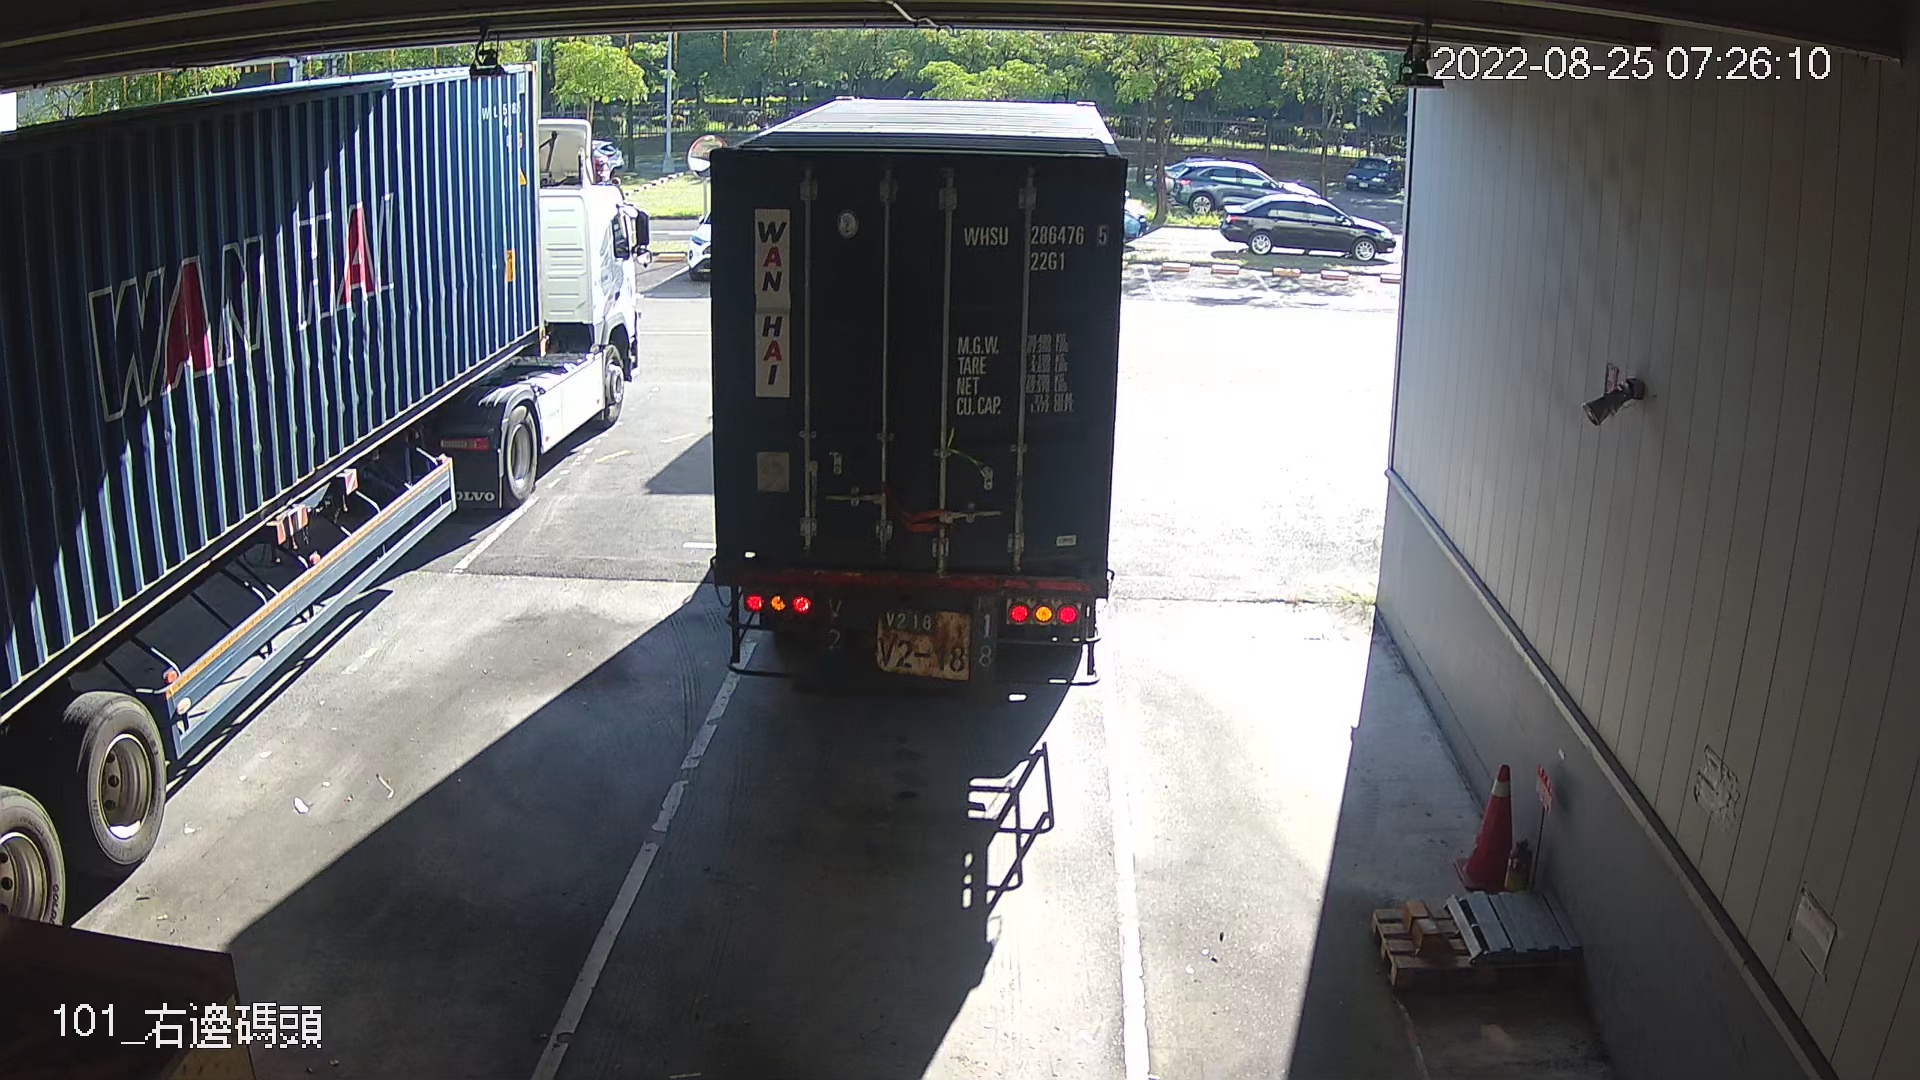container: (957, 211, 1116, 280)
